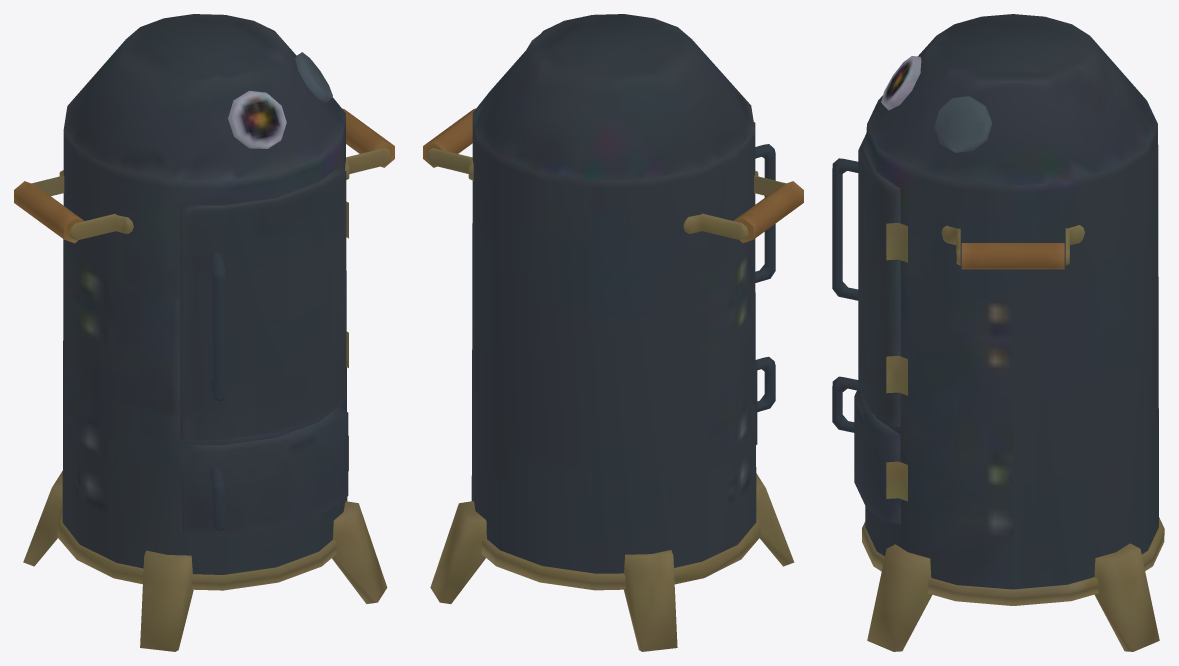
The picture shows the model from 3 angles, left to right: view 1: azimuth 30°, elevation 25°; view 2: azimuth 150°, elevation 25°; view 3: azimuth 270°, elevation 25°; orthographic projection. The views are drawn at different scales.
Size of the model in its own units: 8.11 by 12.42 by 6.88.
1 material, 1 textured.
